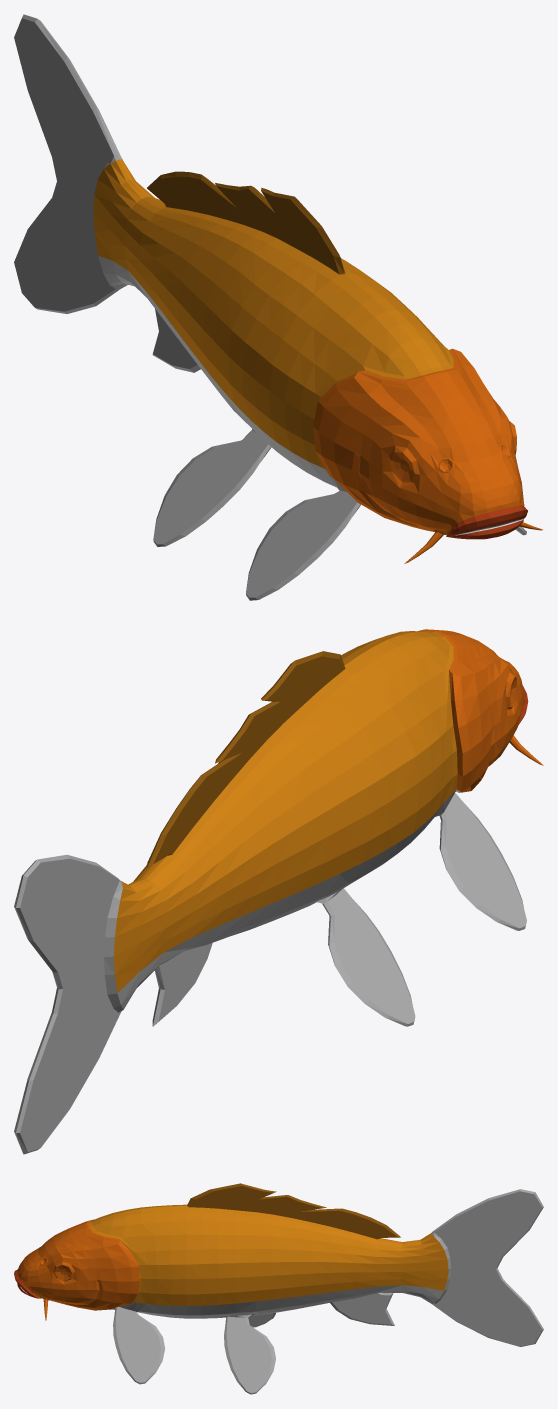
File: koi_fish_koi_fish.obj
The picture shows the model from 3 angles, top to bottom: view 1: azimuth 30°, elevation 25°; view 2: azimuth 150°, elevation 25°; view 3: azimuth 270°, elevation 25°; orthographic projection. The views are drawn at different scales.
Size of the model in its own units: 0.0981 by 0.1111 by 0.3006.
